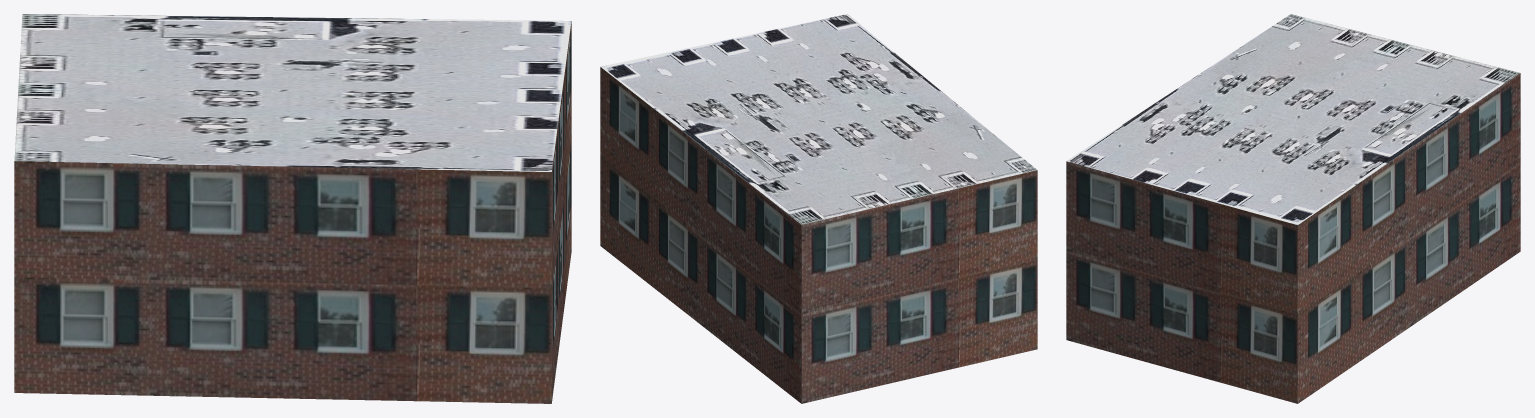
Rendered from ResTex__2225.fbx.
3 views of the same model, side by side, from view 1: azimuth 30°, elevation 25°; view 2: azimuth 150°, elevation 25°; view 3: azimuth 270°, elevation 25° (orthographic). The views are drawn at different scales.
Parts seen in each view (by area): view 1: CityEngineMaterial_14_m, CityEngineMaterial_4_m; view 2: CityEngineMaterial_14_m, CityEngineMaterial_4_m; view 3: CityEngineMaterial_14_m, CityEngineMaterial_4_m.
Boxes of the visible parts, x1=… form: CityEngineMaterial_14_m: x1=14, y1=21, x2=571, y2=403; CityEngineMaterial_4_m: x1=14, y1=14, x2=571, y2=171; CityEngineMaterial_14_m: x1=600, y1=67, x2=1037, y2=403; CityEngineMaterial_4_m: x1=600, y1=14, x2=1037, y2=224; CityEngineMaterial_14_m: x1=1066, y1=73, x2=1520, y2=403; CityEngineMaterial_4_m: x1=1067, y1=14, x2=1519, y2=224.
Bounding box in the file's own units: 15.21 × 6 × 13.81.
Materials: 2 (2 with a texture image).
